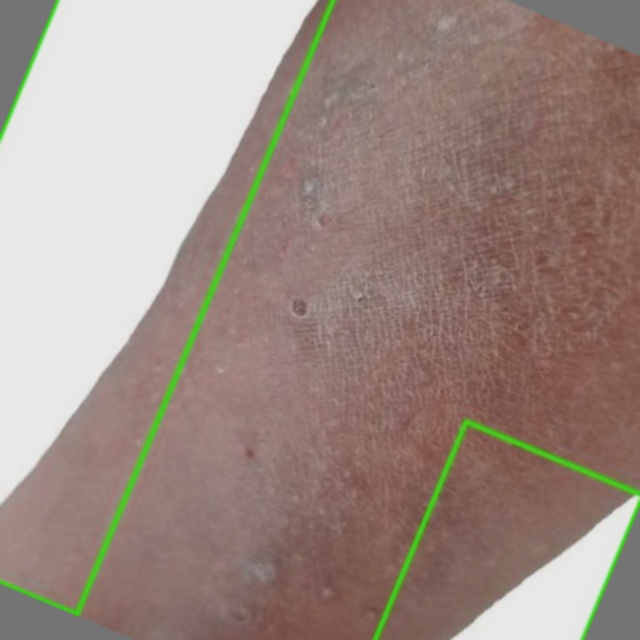Contact Dermatitis: (0, 0, 332, 614)
